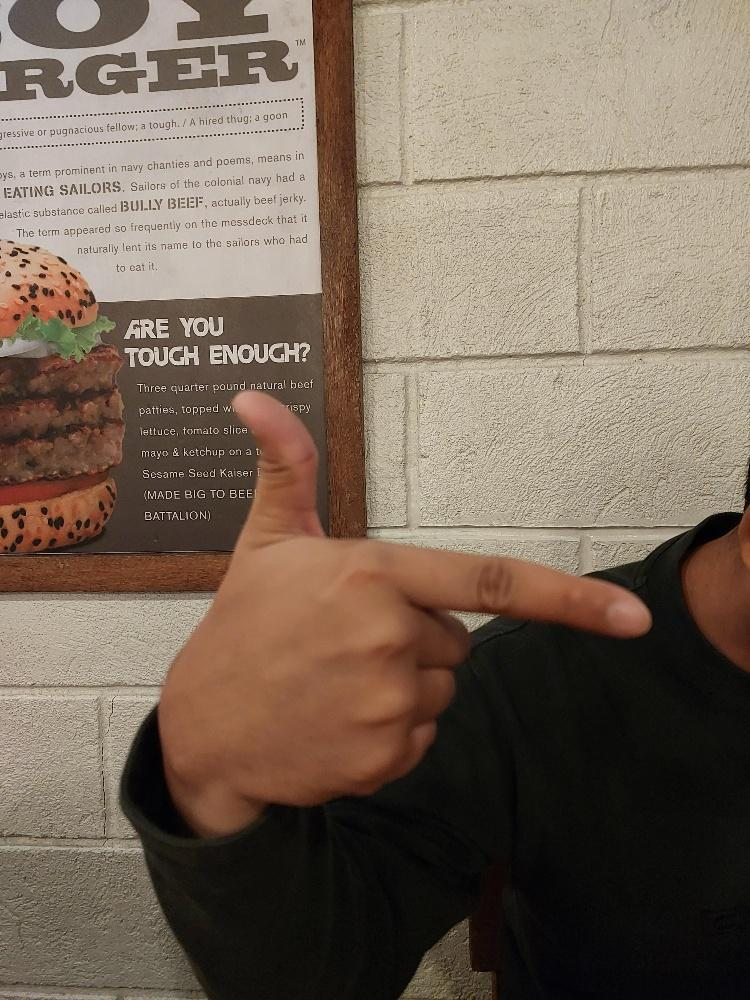g: (155, 386, 655, 810)
